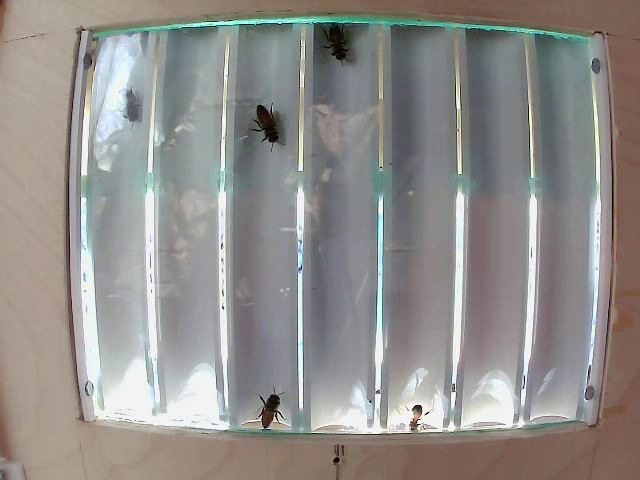bee: (310, 15, 368, 78), (241, 88, 289, 152), (247, 384, 295, 429), (394, 394, 433, 436)
